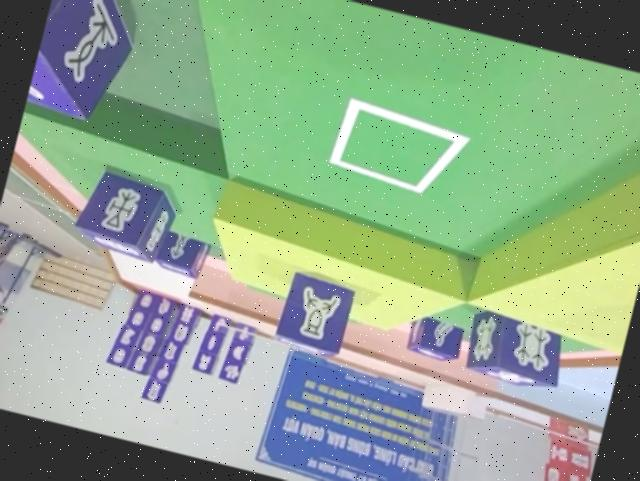R2 Real Blue: (23, 0, 154, 127), (69, 164, 182, 264), (460, 307, 573, 396), (271, 267, 358, 361), (151, 225, 213, 279), (401, 311, 464, 364)
